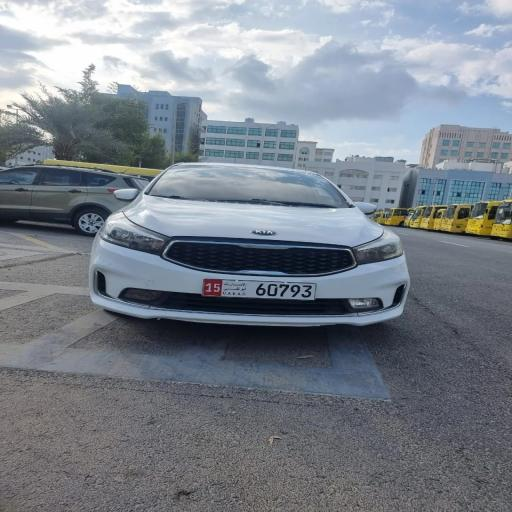license-plates: (202, 279, 316, 300)
